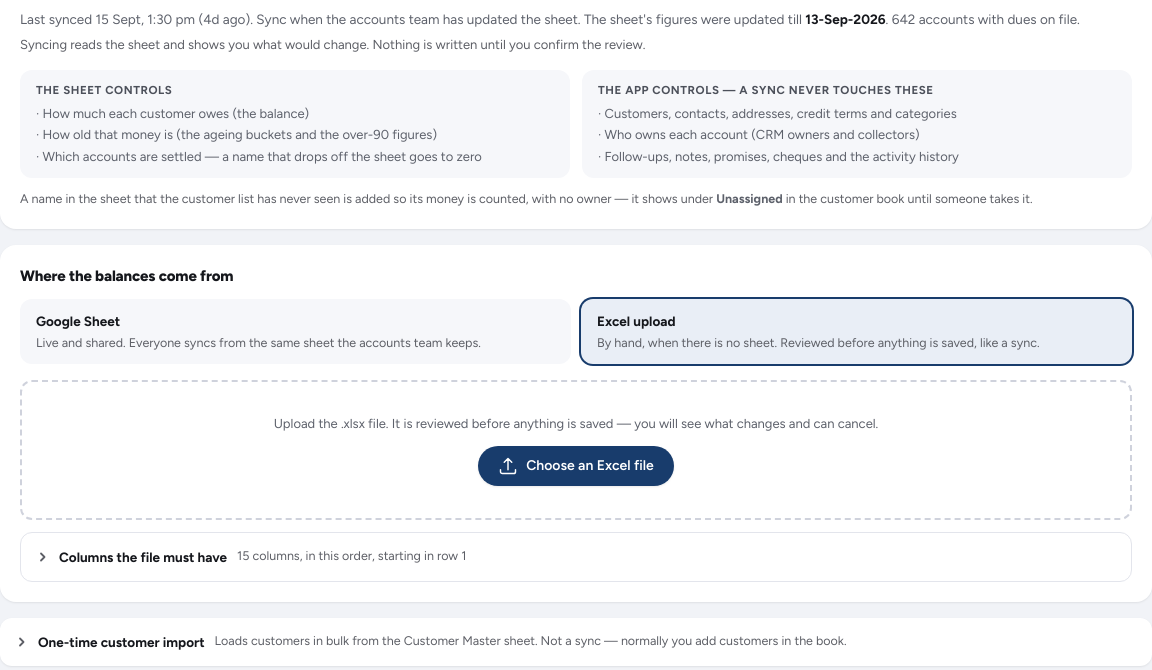
Test: the Data source page › Excel mode shows the upload and folds the column table away
Expected: the file field with id "file-upload" is shown, top-left (478, 446), bottom-right (674, 486)
Expected: the text "Acme Corp" is not shown
What coordinates should you click on to do the following:
click the button "Columns the file must have"
I would click on:
 (143, 557)
Its box is top-left (37, 535), bottom-right (1115, 579).
(page scrolled)
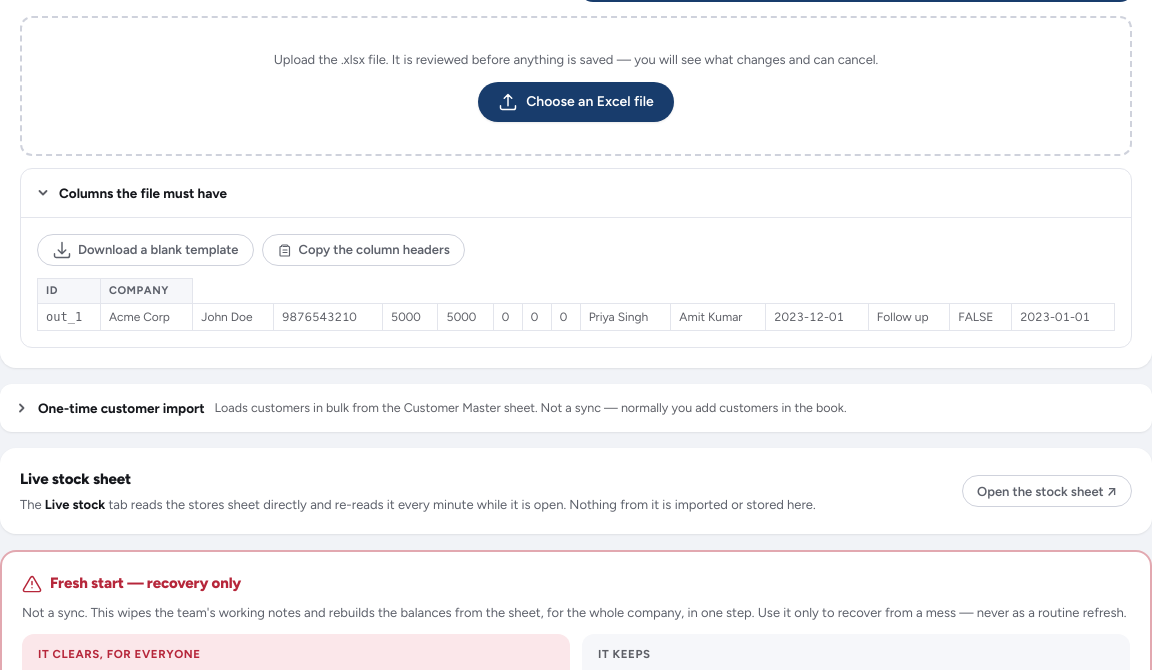
Expected: the text "Acme Corp" is shown, top-left (100, 304), bottom-right (193, 331)
